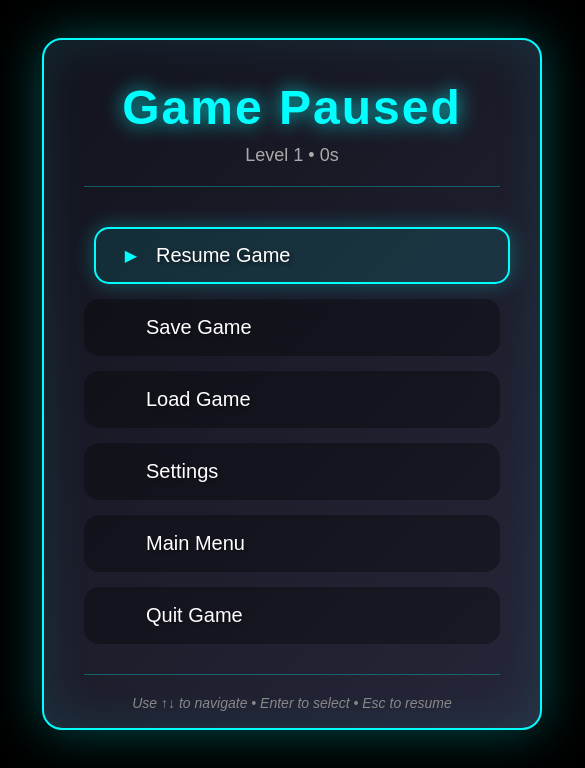
Test: InGamePauseMenu Component › displays empty save slots
Click the text "Save Game".
click(199, 327)  # box [146,316,252,338]
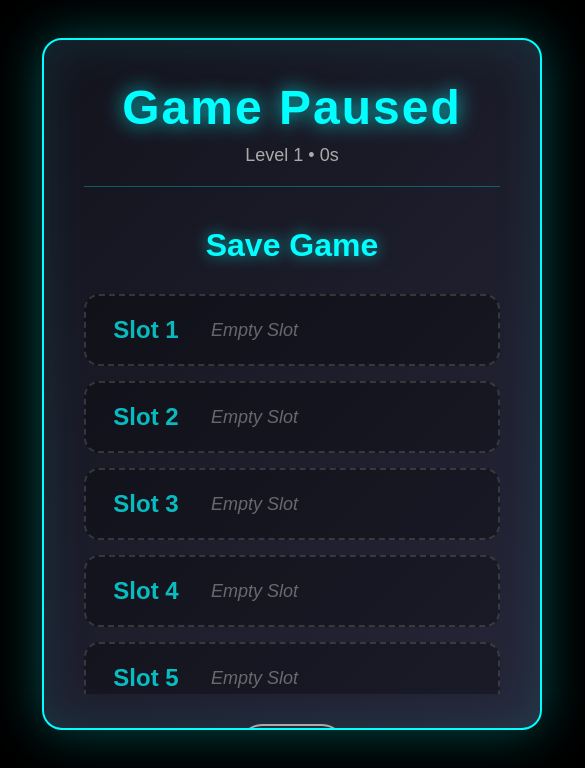
Expected: the text "Empty Slot" is shown 5 times, [211,320,298,341]; [211,407,298,428]; [211,494,298,515]; [211,581,298,602]; [211,668,298,689]
